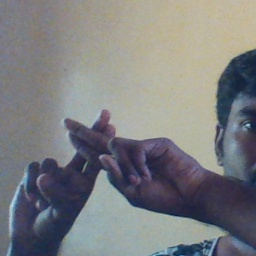F: (33, 101, 162, 208)
